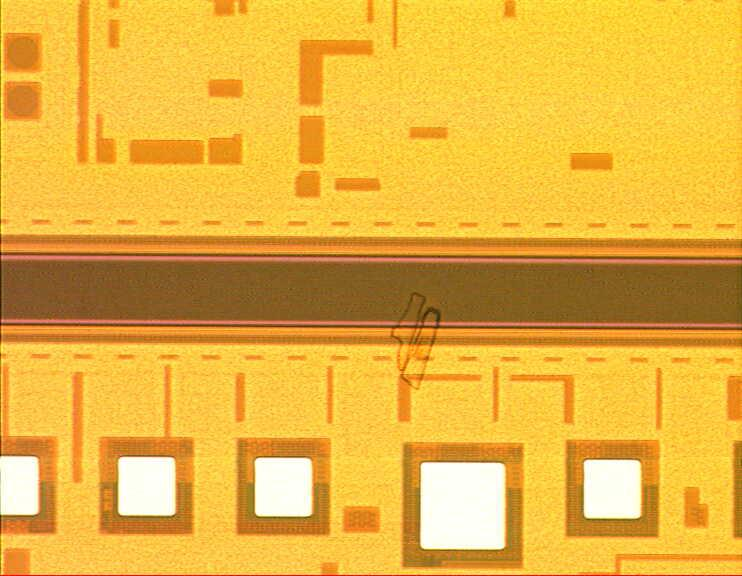PIQ PARTICLE: (384, 284, 449, 397)
